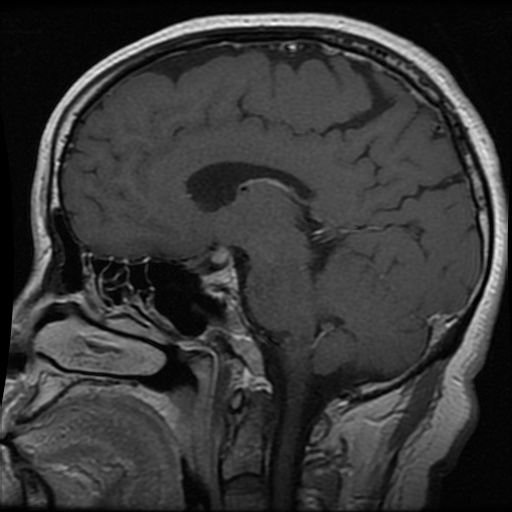pituitary: (201, 246, 237, 293)
